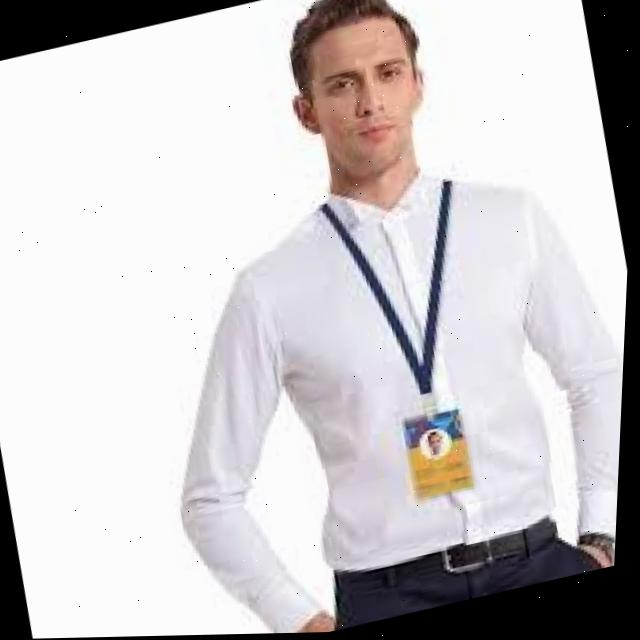id_card: (311, 177, 514, 519)
